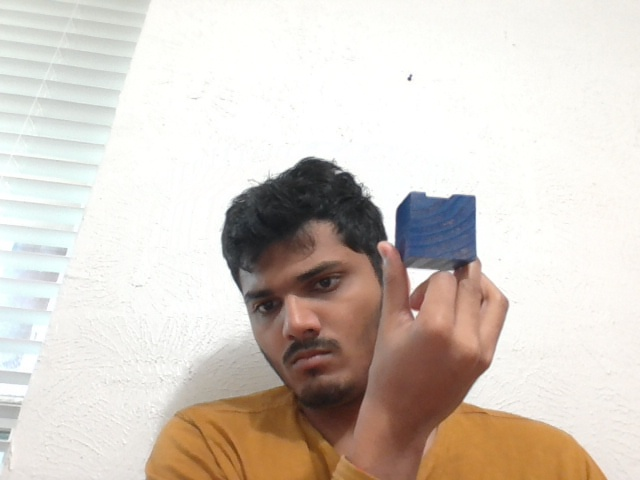BlueBlock: (396, 191, 478, 260)
